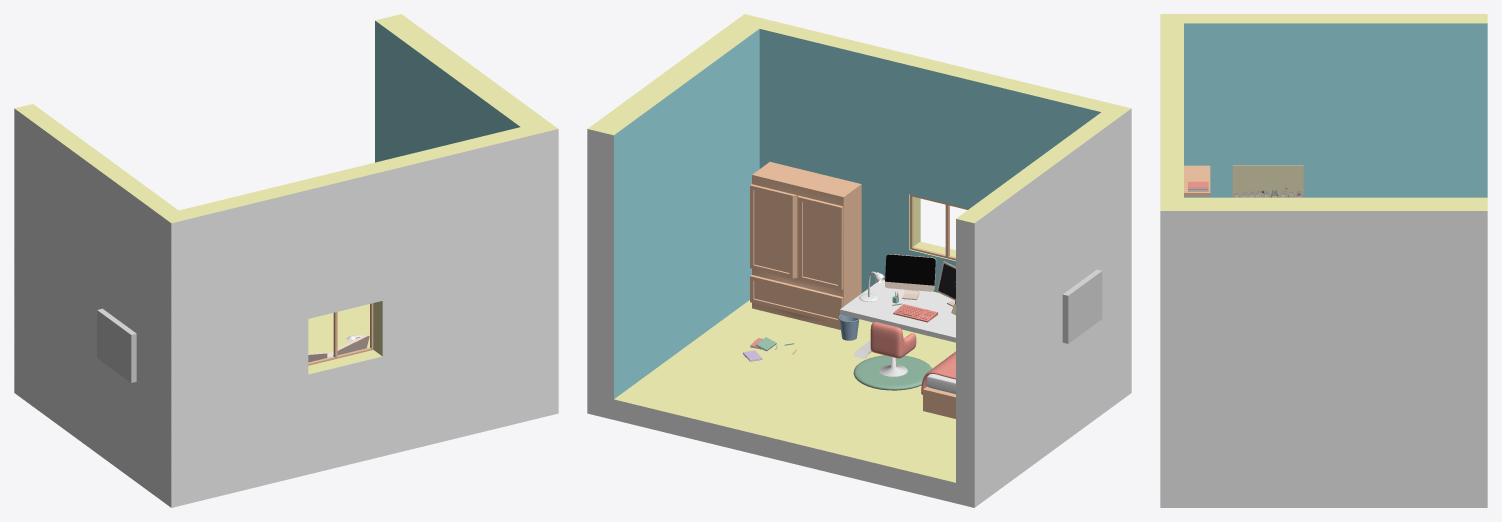
File: Study_Room_31.glb
3 renders of one model, left to right at view 1: azimuth 30°, elevation 25°; view 2: azimuth 150°, elevation 25°; view 3: azimuth 270°, elevation 25°, orthographic. The views are drawn at different scales.
Visible parts, largest first — view 1: Room, Cube, Window Frame; view 2: Room, Closet, Table Top, Cube, Rug, Desktop Screen, Chair, Bedframe, Window Frame; view 3: Room, Cube.001, Shelf.001.
Part boxes in pixels (<box>): Room: <box>14,14,558,507</box>; Cube: <box>97,308,136,382</box>; Window Frame: <box>308,303,373,365</box>; Room: <box>587,14,1131,507</box>; Closet: <box>750,162,861,329</box>; Table Top: <box>840,279,955,342</box>; Cube: <box>1062,269,1102,343</box>; Rug: <box>853,355,931,390</box>; Desktop Screen: <box>885,254,935,285</box>; Chair: <box>870,322,916,358</box>; Bedframe: <box>923,386,955,418</box>; Window Frame: <box>910,194,968,260</box>; Room: <box>1160,14,1487,507</box>; Cube.001: <box>1232,165,1303,197</box>; Shelf.001: <box>1184,165,1210,196</box>.
Size of the model in its own units: 28.12 by 19.48 by 19.48.
Materials: 29 (4 with a texture image).
